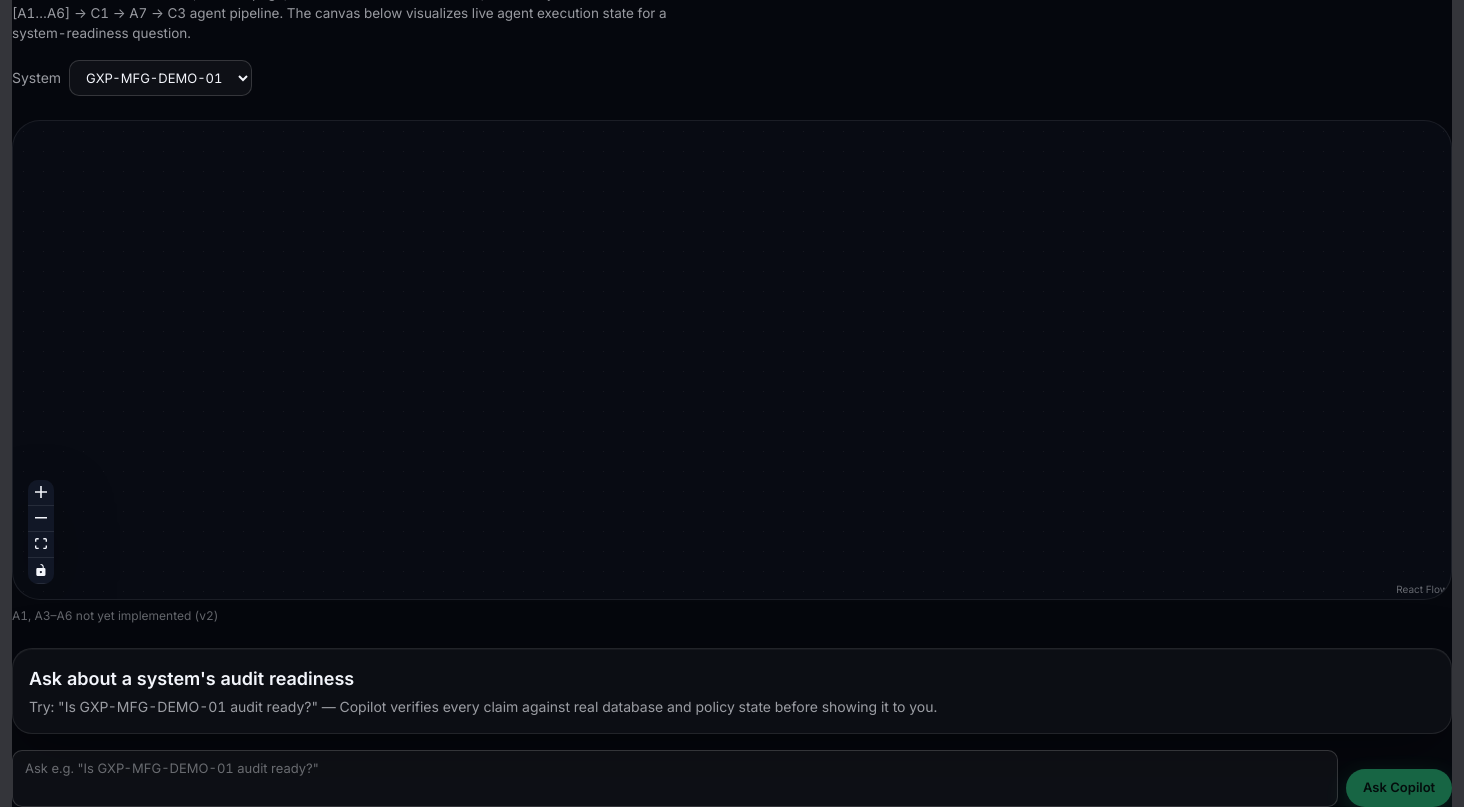
Test case: Copilot auto-navigate wiring (plan 06.1-08, D-13) › arms auto-navigate only for the newest assistant message, not an earlier one
(page scrolled)
Type "what's traced to URS-042?" into the text box with placeholder "Ask e.g. \"Is GXP-MFG-DEMO-01 audit ready?\"" at (675, 778), box [12,750,1338,806]
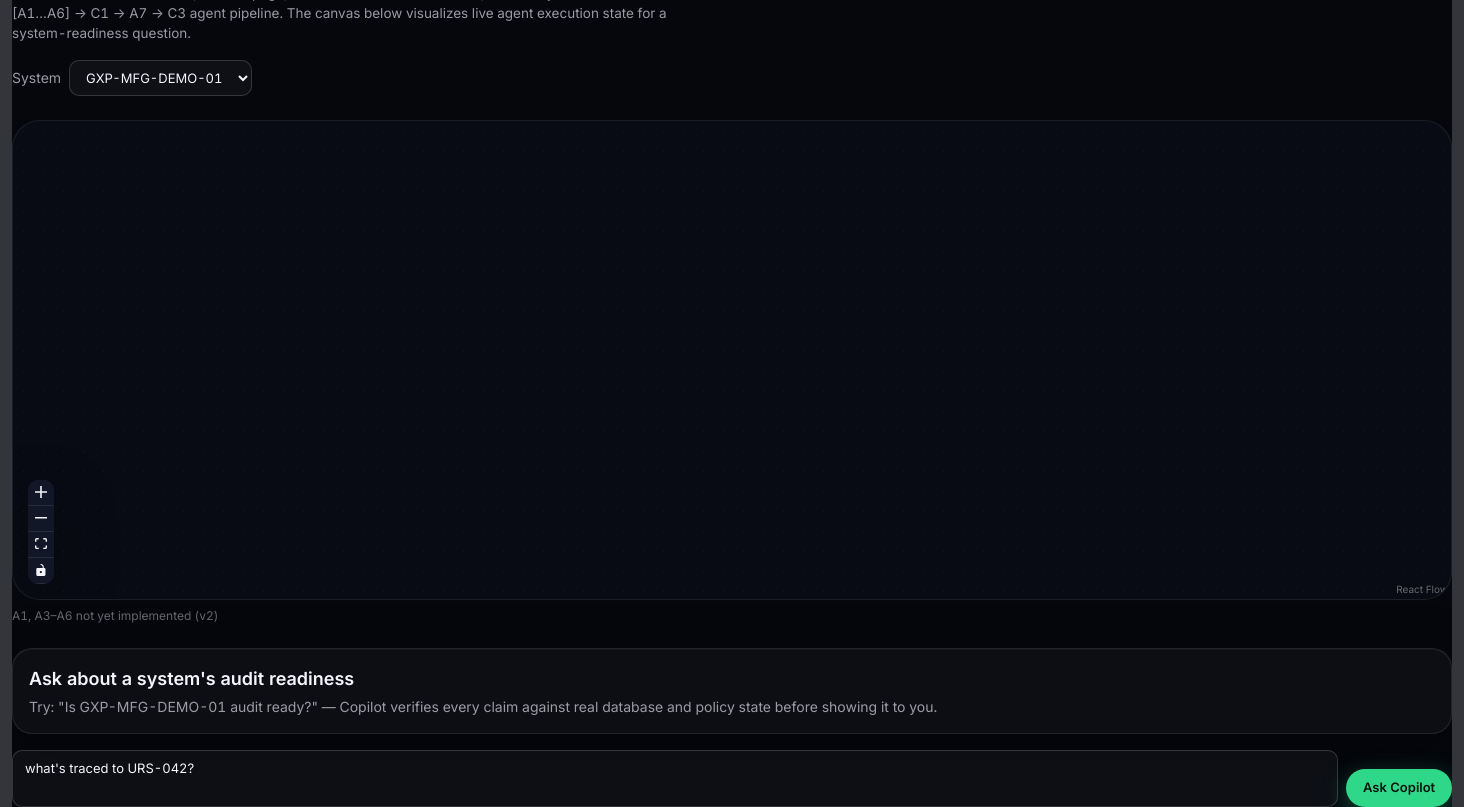
Click the button "Ask Copilot" at (1399, 788), box [1346,769,1452,806]
(page scrolled)
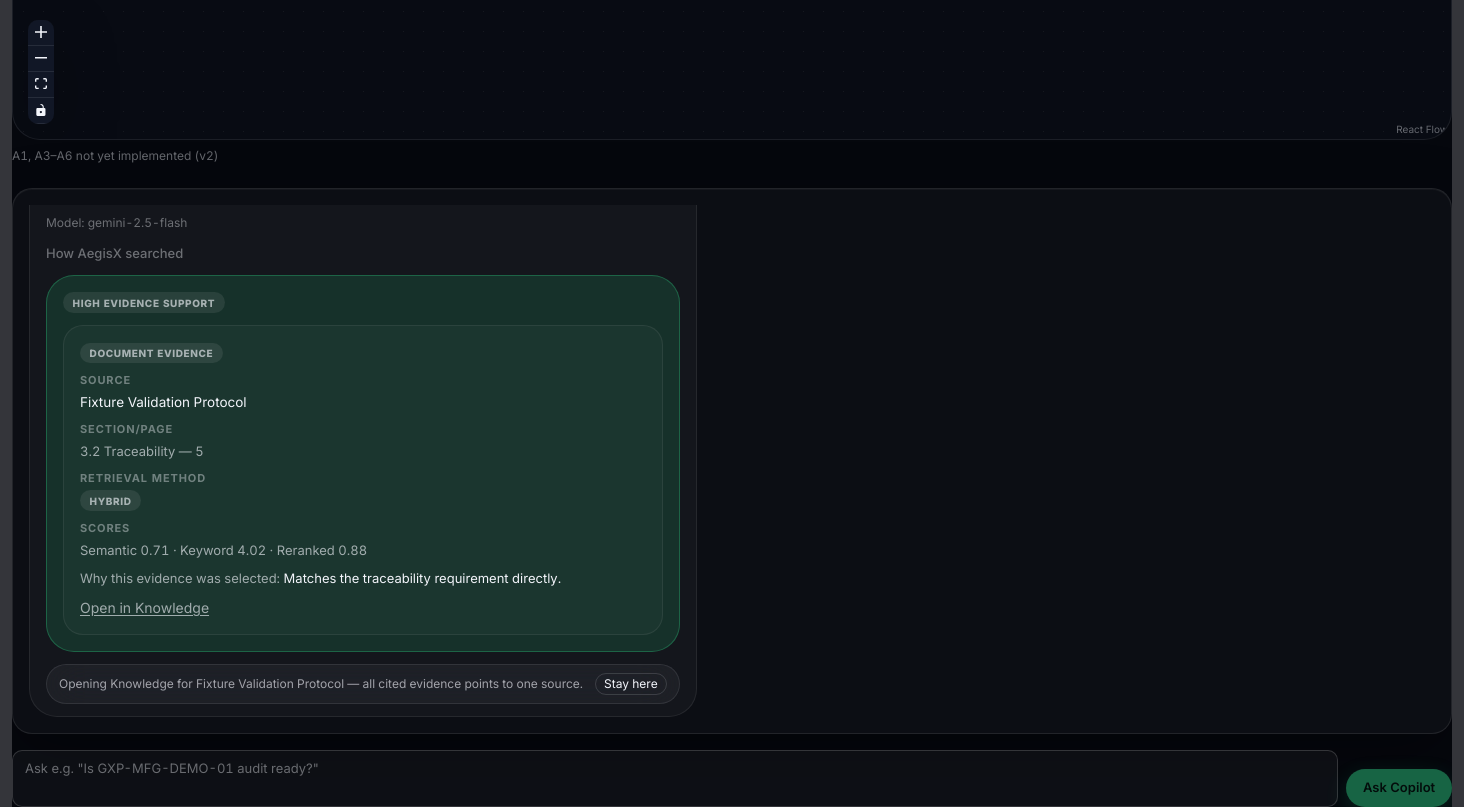
Check: the number of messages with test id "auto-navigate-notice" is 1, box [46,664,680,704]
Type "a second question" into the text box with placeholder "Ask e.g. \"Is GXP-MFG-DEMO-01 audit ready?\"" at (675, 778), box [12,750,1338,806]
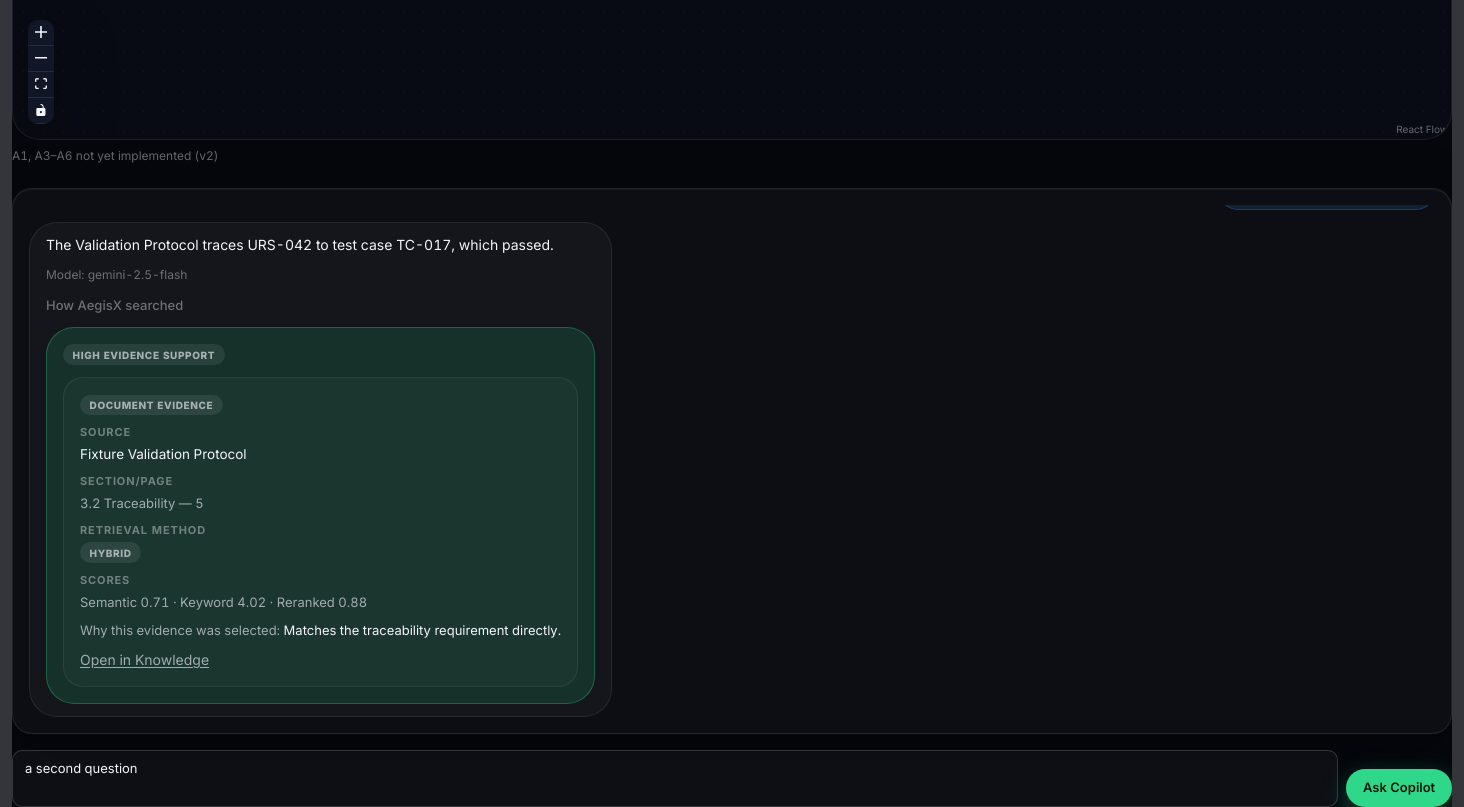
Click the button "Ask Copilot" at (1399, 788), box [1346,769,1452,806]
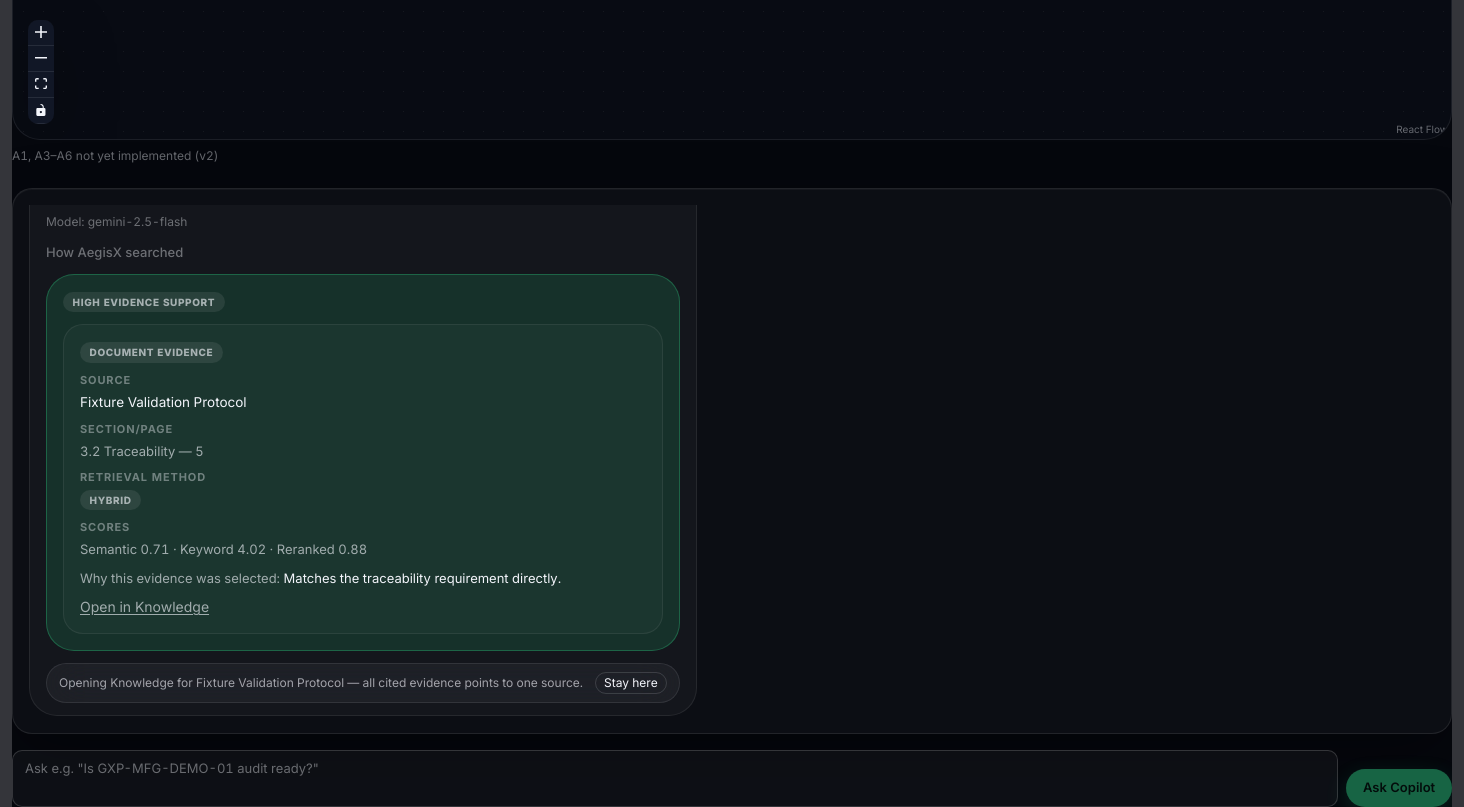
Check: the number of messages with test id "auto-navigate-notice" is 1, box [46,663,680,703]
